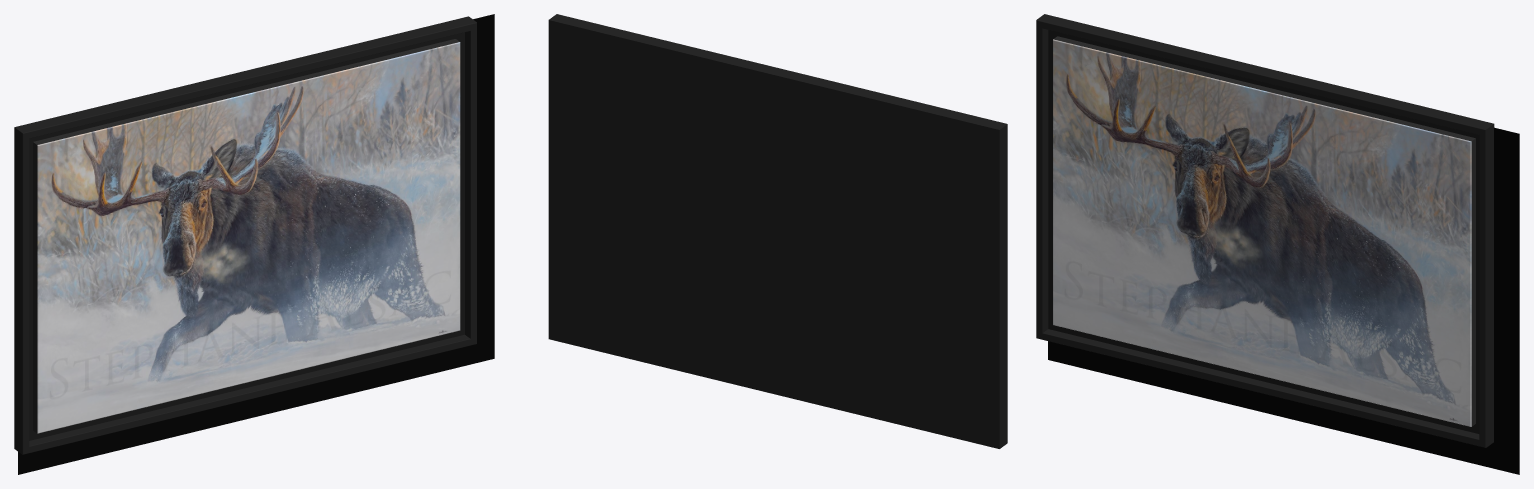
The model's file is tableau-elan-orignal-grand-9f86d61d.glb.
3 renders of one model, left to right at view 1: azimuth 30°, elevation 25°; view 2: azimuth 150°, elevation 25°; view 3: azimuth 330°, elevation 25°, orthographic.
Parts seen in each view (by area): view 1: Painting; view 2: Painting; view 3: Painting.
Boxes of the visible parts, x1,y1,x2,y2 form: Painting: (14, 14, 494, 474); Painting: (548, 14, 1007, 448); Painting: (1036, 14, 1519, 474).
Bounding box in the file's own units: 1.31 × 0.906 × 0.04.
Materials: 5 (3 with a texture image).
